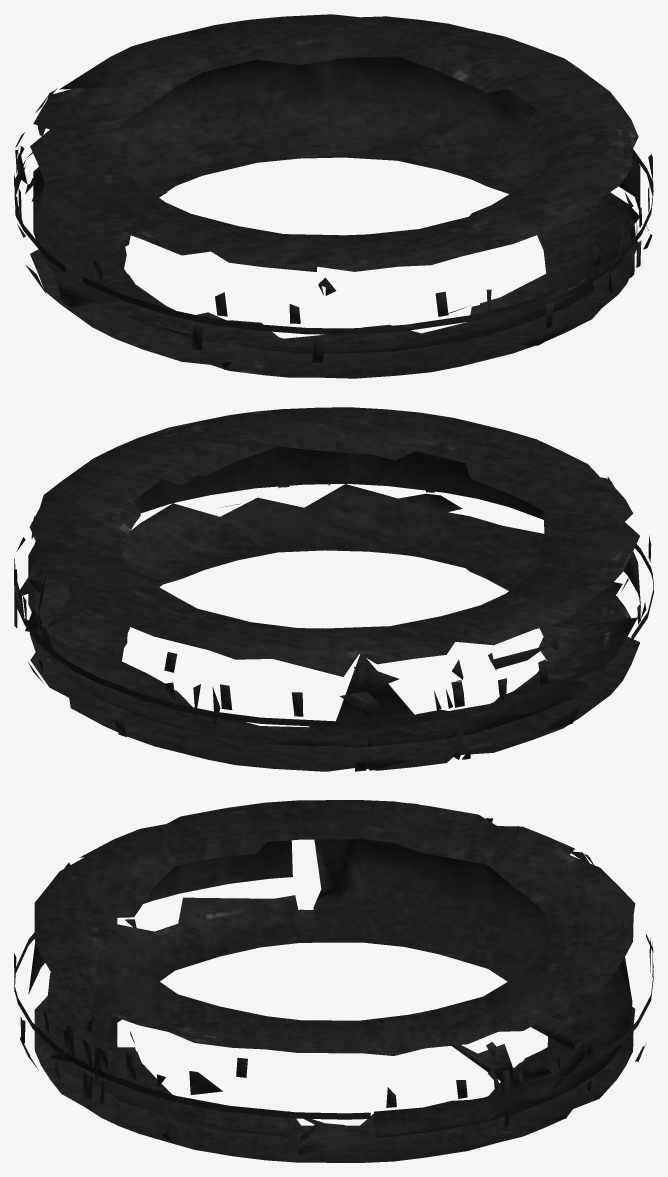
Rendered from pneu.glb.
3 views of the same model, one above another, from view 1: azimuth 30°, elevation 25°; view 2: azimuth 150°, elevation 25°; view 3: azimuth 270°, elevation 25° (orthographic).
Parts seen in each view (by area): view 1: Simple_Tire_01_Tire_SHD_0 (×2); view 2: Simple_Tire_01_Tire_SHD_0 (×2); view 3: Simple_Tire_01_Tire_SHD_0 (×2).
Boxes of the visible parts, bbox=[...] form: Simple_Tire_01_Tire_SHD_0 (×2): bbox=[14, 14, 653, 378]; Simple_Tire_01_Tire_SHD_0 (×2): bbox=[14, 407, 653, 771]; Simple_Tire_01_Tire_SHD_0 (×2): bbox=[14, 800, 653, 1162].
Bounding box in the file's own units: 0.6802 × 0.1381 × 0.6816.
1 material, 1 textured.
